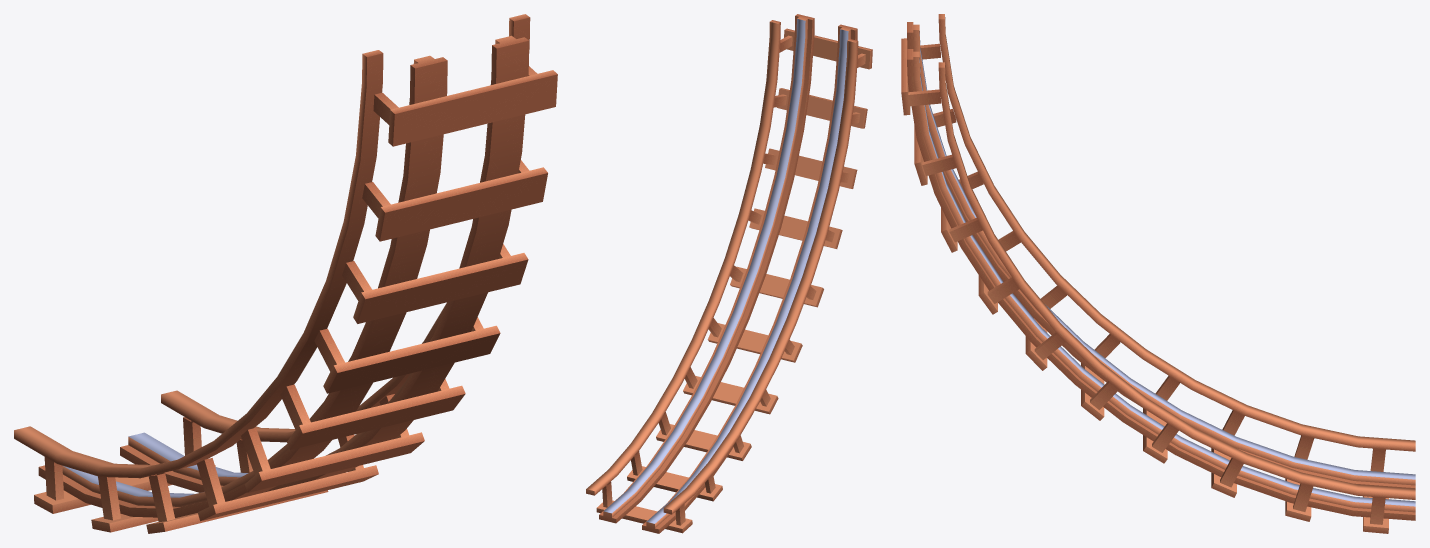
File: coaster-kit--coaster-wood-straight-bend-large.glb
3 renders of one model, left to right at view 1: azimuth 30°, elevation 25°; view 2: azimuth 150°, elevation 25°; view 3: azimuth 270°, elevation 25°, orthographic. The views are drawn at different scales.
Parts seen in each view (by area): view 1: coaster-wood-straight-bend-large; view 2: coaster-wood-straight-bend-large; view 3: coaster-wood-straight-bend-large.
Boxes of the visible parts, x1,y1,x2,y2 form: coaster-wood-straight-bend-large: (14,14,557,533); coaster-wood-straight-bend-large: (586,14,872,533); coaster-wood-straight-bend-large: (901,14,1415,533).
Size of the model in its own units: 1 by 4.04 by 4.04.
Materials: 1 (1 with a texture image).
